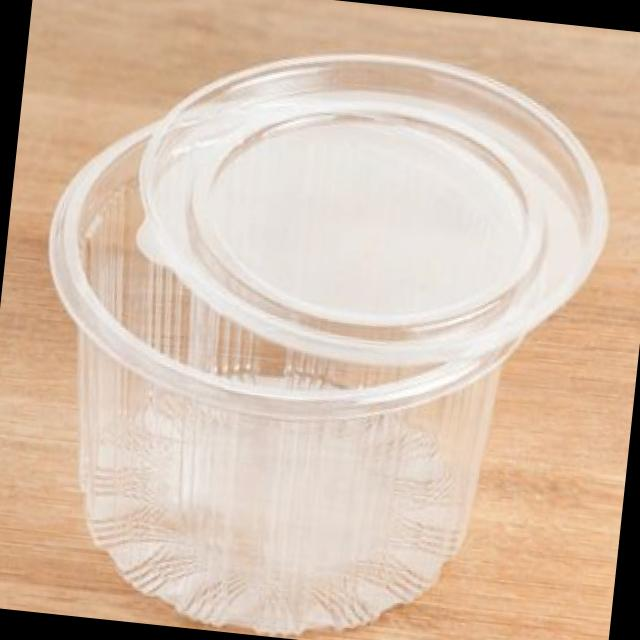general: (7, 14, 624, 640)
